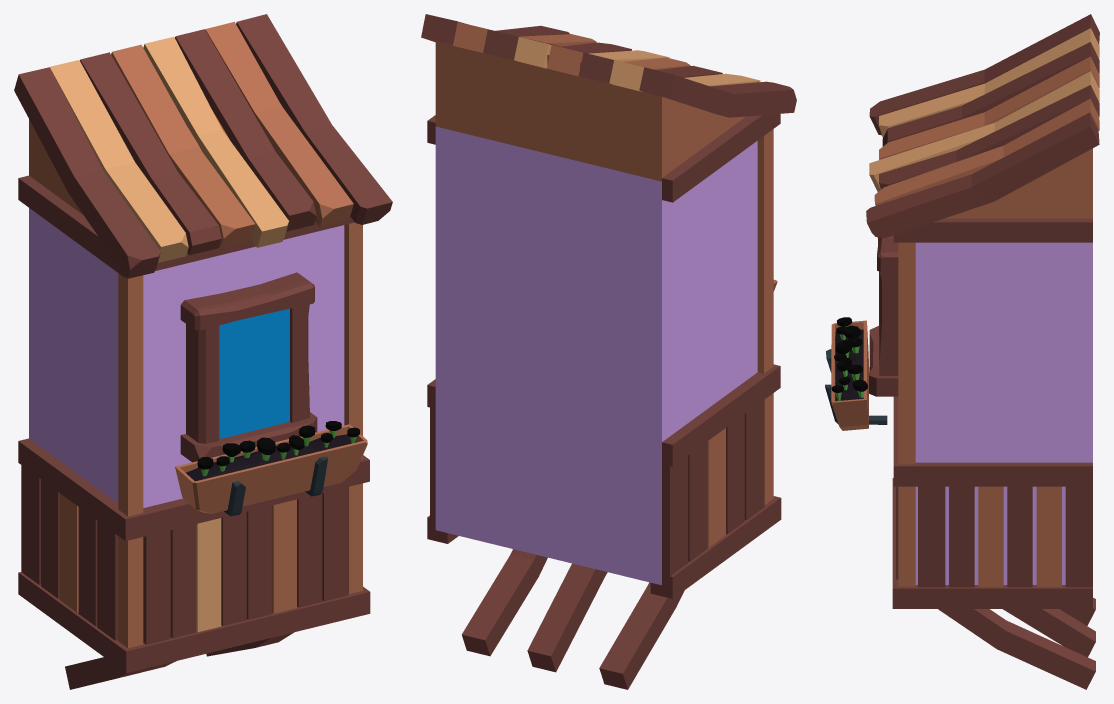
The model's file is Building Addon 03.fbx.
3 renders of one model, left to right at view 1: azimuth 30°, elevation 25°; view 2: azimuth 150°, elevation 25°; view 3: azimuth 270°, elevation 25°, orthographic. The views are drawn at different scales.
Visible parts, largest first — view 1: Building Addon 03; view 2: Building Addon 03; view 3: Building Addon 03.
Boxes of the visible parts, <box> form: Building Addon 03: <box>14,14,392,689</box>; Building Addon 03: <box>421,14,796,689</box>; Building Addon 03: <box>825,14,1099,689</box>.
Size of the model in its own units: 298 by 690 by 296.
